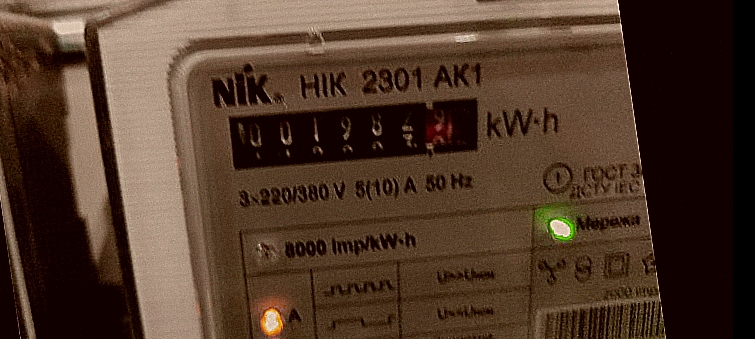0: (275, 116, 296, 147), (245, 118, 264, 149)
1: (306, 112, 322, 143)
2: (396, 102, 418, 133)
8: (366, 107, 386, 137)
9: (427, 103, 451, 134), (336, 111, 354, 142)
screen: (208, 65, 500, 200)
